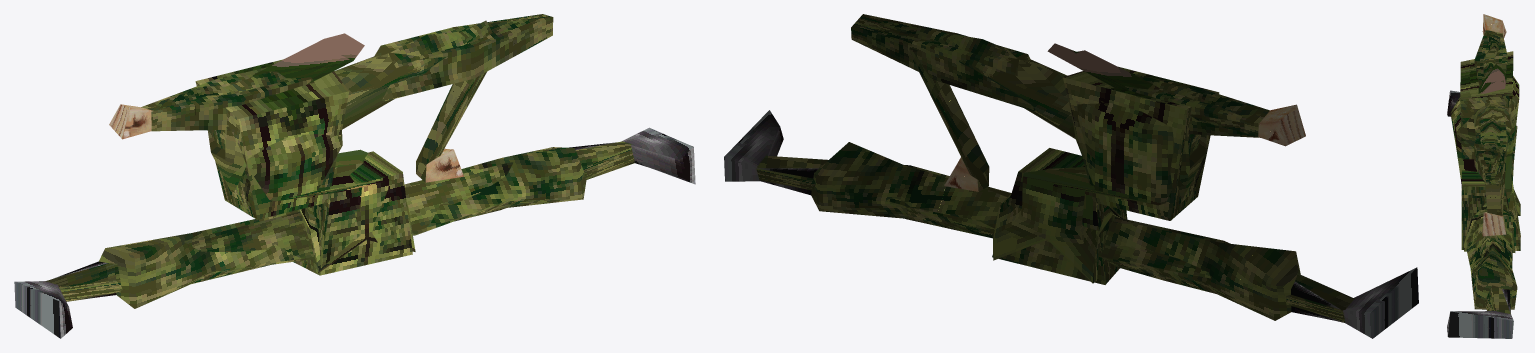
The model's file is CcamguardZ.obj.
The picture shows the model from 3 angles, left to right: view 1: azimuth 30°, elevation 25°; view 2: azimuth 150°, elevation 25°; view 3: azimuth 270°, elevation 25°; orthographic projection. The views are drawn at different scales.
Bounding box in the file's own units: 2167 × 681 × 306.
Materials: 15 (15 with a texture image).
